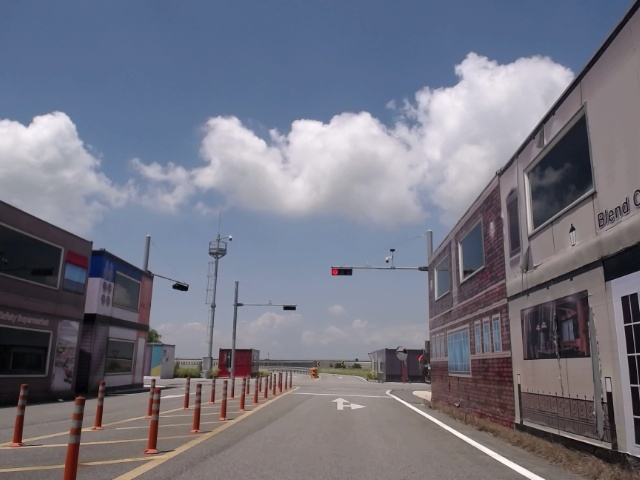red_3: (332, 268, 353, 276)
